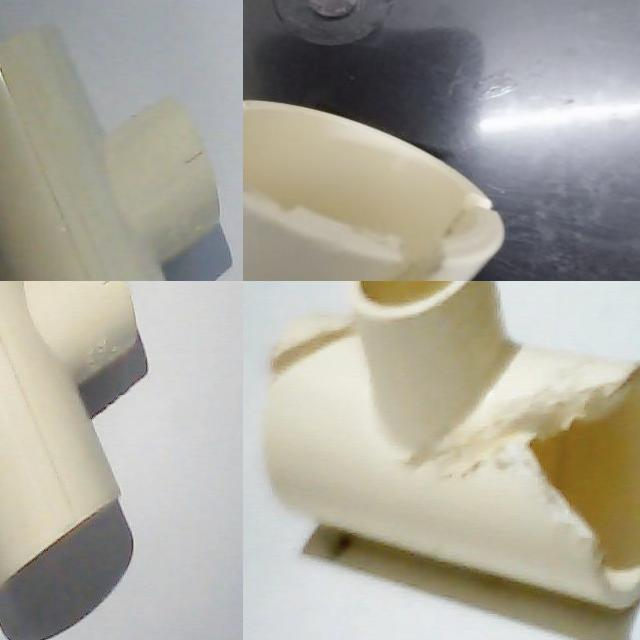Defective: (478, 396, 632, 588), (310, 222, 469, 281), (280, 322, 350, 374)
T Joint: (261, 281, 640, 612), (0, 27, 220, 281)
